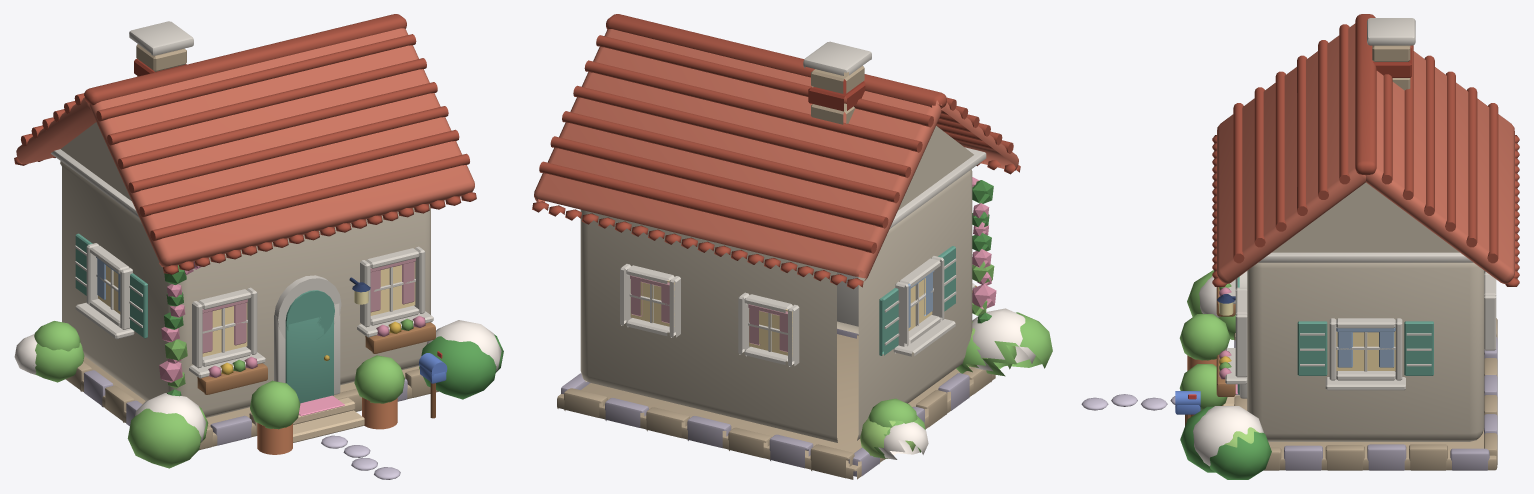
File: ac_cottage_r0.glb
3 views of the same model, side by side, from view 1: azimuth 30°, elevation 25°; view 2: azimuth 150°, elevation 25°; view 3: azimuth 270°, elevation 25° (orthographic). The views are drawn at different scales.
Parts seen in each view (by area): view 1: body, nomask; view 2: body, nomask; view 3: body, nomask.
Boxes of the visible parts, bbox=[...] form: body: bbox=[14, 14, 476, 450]; nomask: bbox=[14, 320, 503, 479]; body: bbox=[532, 14, 1020, 479]; nomask: bbox=[857, 308, 1052, 459]; body: bbox=[1212, 14, 1519, 470]; nomask: bbox=[1081, 270, 1271, 479].
Size of the model in its own units: 9.96 by 8.94 by 10.35.
